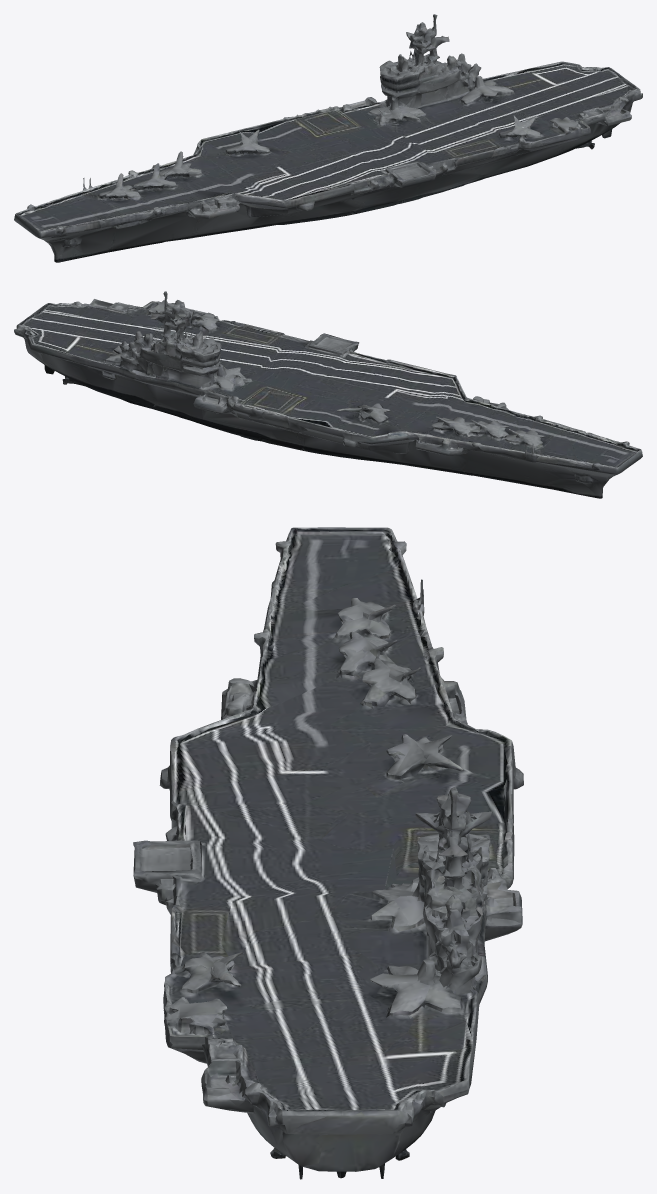
The model's file is nimitz-carrier-meshy-textured-detail-v4.glb.
The picture shows the model from 3 angles, top to bottom: view 1: azimuth 30°, elevation 25°; view 2: azimuth 150°, elevation 25°; view 3: azimuth 270°, elevation 25°; orthographic projection. The views are drawn at different scales.
Size of the model in its own units: 1.9 by 0.3943 by 0.5349.
1 material, 1 textured.
